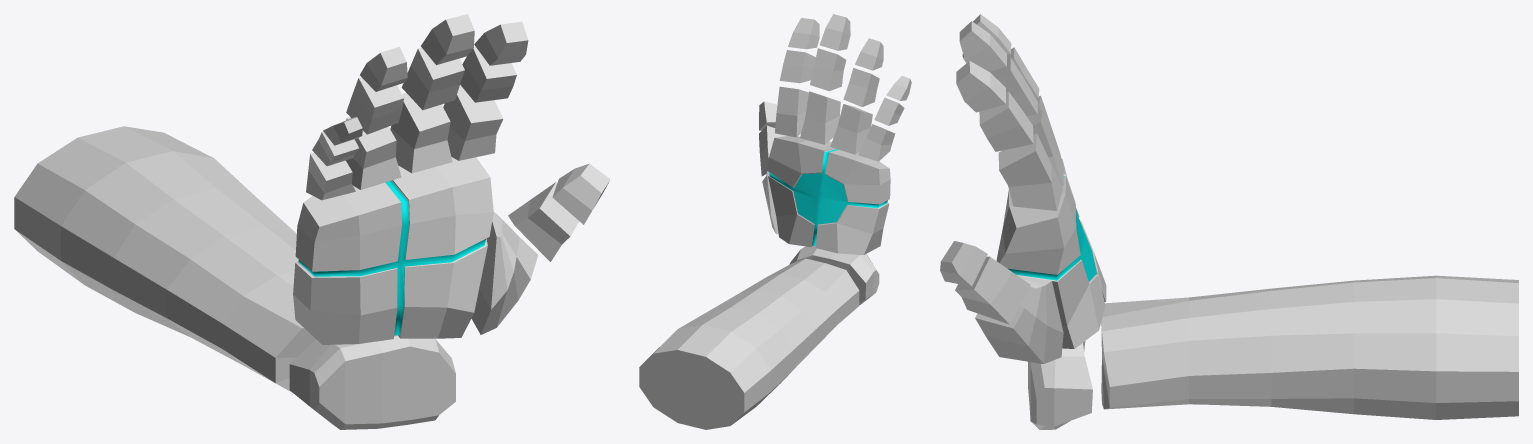
The model's file is FastBlastHand.fbx.
The picture shows the model from 3 angles, left to right: view 1: azimuth 30°, elevation 25°; view 2: azimuth 150°, elevation 25°; view 3: azimuth 270°, elevation 25°; orthographic projection. The views are drawn at different scales.
Visible parts, largest first — view 1: Arm, Palm, Wrist, Thumb01, Middle01, Index01, Thumb02, Middle02, Ring01, Ring02, Thumb03, Index02 (+6 smaller); view 2: Arm, Palm, Wrist, Middle01, Ring01, Index01, Middle02, Ring02, Index02, Pinky01, Middle03, Index03 (+6 smaller); view 3: Arm, Palm, Thumb01, Wrist, Index01, Thumb02, Index02, Index03, Middle03, Thumb03, Middle02, Middle01.
Part boxes in pixels (bbox=[...]): Arm: bbox=[14, 126, 315, 392]; Palm: bbox=[293, 157, 493, 344]; Wrist: bbox=[289, 335, 455, 429]; Thumb01: bbox=[471, 212, 538, 334]; Middle01: bbox=[390, 93, 452, 173]; Index01: bbox=[443, 85, 503, 160]; Thumb02: bbox=[508, 182, 579, 261]; Middle02: bbox=[401, 47, 464, 110]; Ring01: bbox=[346, 117, 401, 189]; Ring02: bbox=[346, 77, 403, 134]; Thumb03: bbox=[552, 163, 610, 224]; Index02: bbox=[460, 46, 516, 102]; Arm: bbox=[639, 258, 859, 429]; Palm: bbox=[767, 136, 890, 254]; Wrist: bbox=[789, 246, 879, 305]; Middle01: bbox=[800, 91, 840, 144]; Ring01: bbox=[830, 104, 872, 154]; Index01: bbox=[775, 86, 808, 137]; Middle02: bbox=[810, 48, 846, 91]; Ring02: bbox=[843, 68, 879, 106]; Index02: bbox=[780, 50, 815, 83]; Pinky01: bbox=[858, 124, 895, 161]; Middle03: bbox=[819, 14, 850, 50]; Index03: bbox=[788, 18, 819, 49]; Arm: bbox=[1101, 275, 1518, 419]; Palm: bbox=[996, 159, 1106, 348]; Thumb01: bbox=[975, 276, 1063, 363]; Wrist: bbox=[1028, 341, 1092, 429]; Index01: bbox=[998, 133, 1062, 210]; Thumb02: bbox=[955, 256, 1030, 324]; Index02: bbox=[979, 91, 1033, 151]; Index03: bbox=[956, 61, 1005, 112]; Middle03: bbox=[959, 21, 1006, 71]; Thumb03: bbox=[940, 241, 987, 286]; Middle02: bbox=[990, 57, 1037, 116]; Middle01: bbox=[1028, 111, 1063, 185].
Bounding box in the file's own units: 15.08 × 22.35 × 28.95.
